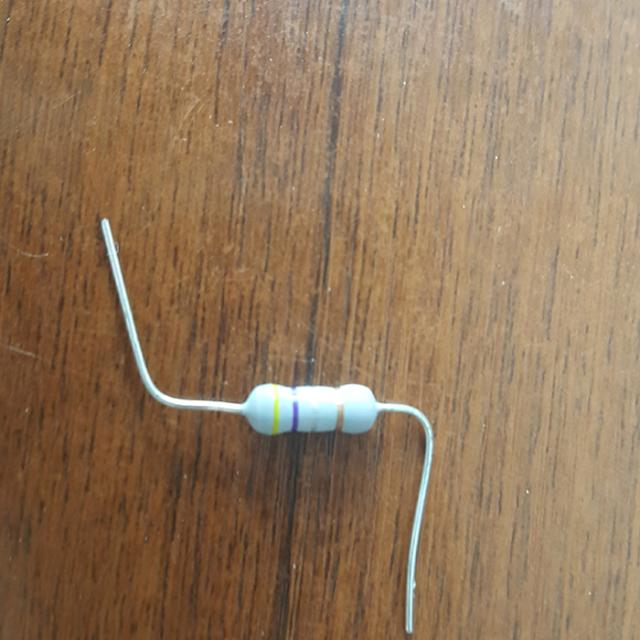Resistor Carbon-Film: (243, 383, 378, 433)
